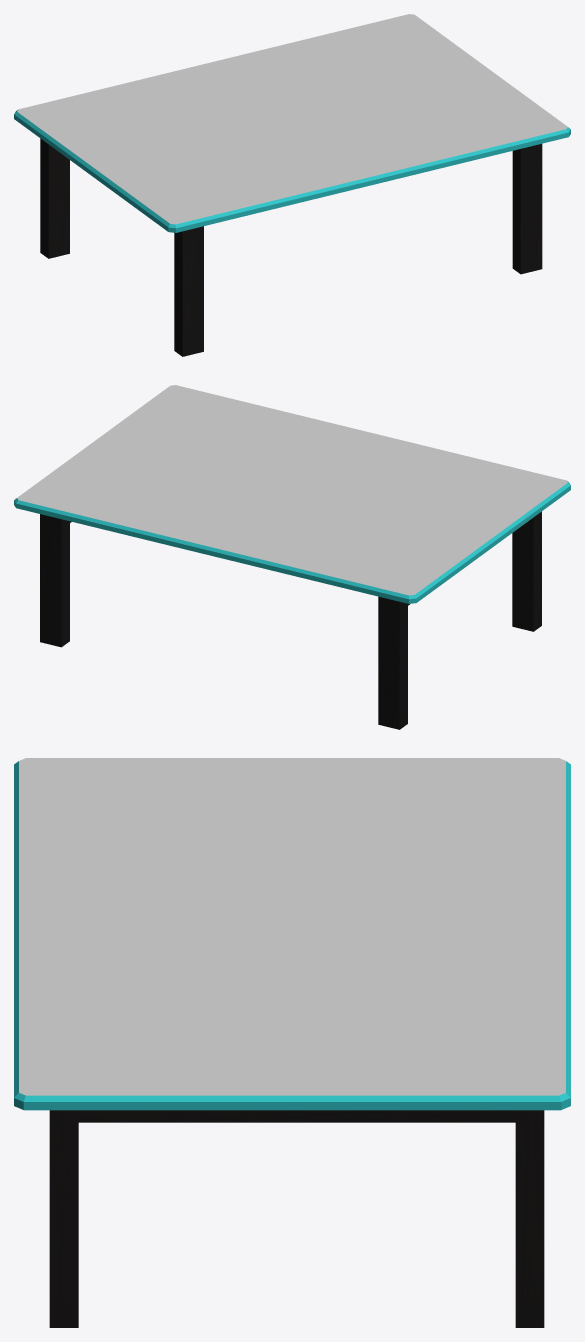
Rendered from Dining_Room_Table_A.FBX.
3 renders of one model, top to bottom at view 1: azimuth 30°, elevation 25°; view 2: azimuth 150°, elevation 25°; view 3: azimuth 270°, elevation 25°, orthographic. The views are drawn at different scales.
Visible parts, largest first — view 1: Dining_Room_Table; view 2: Dining_Room_Table; view 3: Dining_Room_Table.
Boxes of the visible parts, bbox=[...] form: Dining_Room_Table: bbox=[14, 14, 570, 356]; Dining_Room_Table: bbox=[14, 385, 570, 729]; Dining_Room_Table: bbox=[14, 758, 570, 1327].
Bounding box in the file's own units: 450 × 153 × 310.
